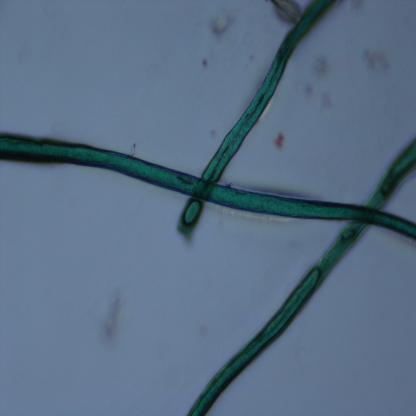Background material: (101, 288, 124, 348), (361, 43, 390, 75), (271, 0, 301, 23), (211, 8, 232, 36), (312, 54, 330, 79), (319, 88, 334, 110), (272, 130, 286, 151)
Microfibre: (186, 140, 416, 415), (0, 127, 416, 242), (178, 0, 333, 241)
